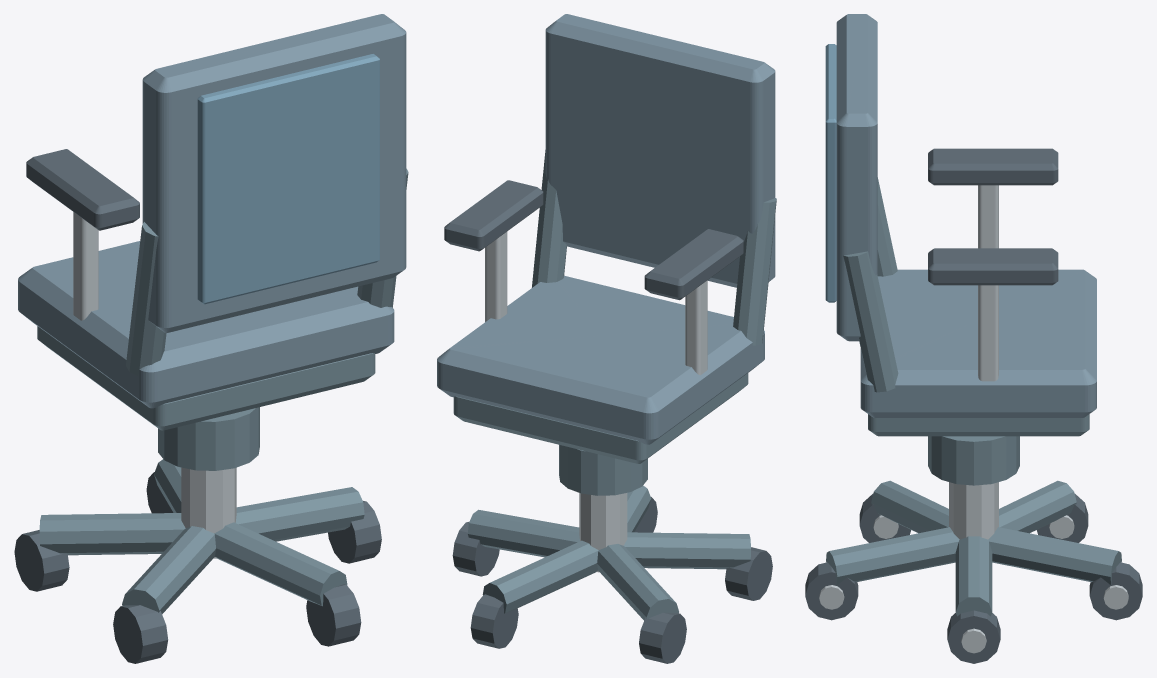
File: guard_office_chair.glb
The picture shows the model from 3 angles, left to right: view 1: azimuth 30°, elevation 25°; view 2: azimuth 150°, elevation 25°; view 3: azimuth 270°, elevation 25°; orthographic projection. The views are drawn at different scales.
Parts seen in each view (by area): view 1: 026_backrest_spine, 025_curved_style_backrest, 018_padded_seat, 017_seat_support, 011_five_spoke_base, 005_five_spoke_base, 021_armrest_pad, 000_gas_lift_hub, 002_five_spoke_base, 008_five_spoke_base, 019_back_support, 001_height_adjust_piston (+8 smaller); view 2: 025_curved_style_backrest, 018_padded_seat, 017_seat_support, 008_five_spoke_base, 014_five_spoke_base, 021_armrest_pad, 024_armrest_pad, 019_back_support, 002_five_spoke_base, 000_gas_lift_hub, 011_five_spoke_base, 022_back_support (+8 smaller); view 3: 018_padded_seat, 025_curved_style_backrest, 021_armrest_pad, 024_armrest_pad, 005_five_spoke_base, 014_five_spoke_base, 000_gas_lift_hub, 017_seat_support, 022_back_support, 026_backrest_spine, 002_five_spoke_base, 001_height_adjust_piston (+13 smaller).
Part boxes in pixels (left/top/right/bottom): 026_backrest_spine: left=197, top=54, right=379, bottom=304; 025_curved_style_backrest: left=142, top=14, right=406, bottom=332; 018_padded_seat: left=18, top=241, right=394, bottom=408; 017_seat_support: left=37, top=326, right=375, bottom=430; 011_five_spoke_base: left=39, top=513, right=185, bottom=555; 005_five_spoke_base: left=214, top=522, right=347, bottom=606; 021_armrest_pad: left=26, top=149, right=139, bottom=230; 000_gas_lift_hub: left=158, top=407, right=259, bottom=470; 002_five_spoke_base: left=235, top=487, right=364, bottom=541; 008_five_spoke_base: left=122, top=526, right=216, bottom=614; 019_back_support: left=126, top=222, right=166, bottom=376; 001_height_adjust_piston: left=181, top=467, right=236, bottom=558; 025_curved_style_backrest: left=545, top=14, right=775, bottom=287; 018_padded_seat: left=437, top=275, right=764, bottom=444; 017_seat_support: left=453, top=373, right=748, bottom=463; 008_five_spoke_base: left=623, top=532, right=750, bottom=569; 014_five_spoke_base: left=482, top=540, right=598, bottom=613; 021_armrest_pad: left=644, top=229, right=743, bottom=300; 024_armrest_pad: left=444, top=180, right=543, bottom=251; 019_back_support: left=733, top=198, right=776, bottom=345; 002_five_spoke_base: left=467, top=509, right=579, bottom=557; 000_gas_lift_hub: left=559, top=445, right=647, bottom=495; 011_five_spoke_base: left=597, top=544, right=678, bottom=620; 022_back_support: left=532, top=150, right=566, bottom=287; 018_padded_seat: left=860, top=269, right=1096, bottom=417; 025_curved_style_backrest: left=836, top=14, right=877, bottom=341; 021_armrest_pad: left=928, top=148, right=1058, bottom=185; 024_armrest_pad: left=928, top=248, right=1058, bottom=285; 005_five_spoke_base: left=826, top=527, right=959, bottom=584; 014_five_spoke_base: left=988, top=527, right=1121, bottom=584; 000_gas_lift_hub: left=928, top=436, right=1019, bottom=485; 017_seat_support: left=868, top=414, right=1089, bottom=436; 022_back_support: left=843, top=251, right=898, bottom=392; 026_backrest_spine: left=825, top=44, right=836, bottom=302; 002_five_spoke_base: left=955, top=536, right=992, bottom=616; 001_height_adjust_piston: left=949, top=482, right=998, bottom=539.
Bounding box in the file's own units: 0.6405 × 1.22 × 0.6997.
